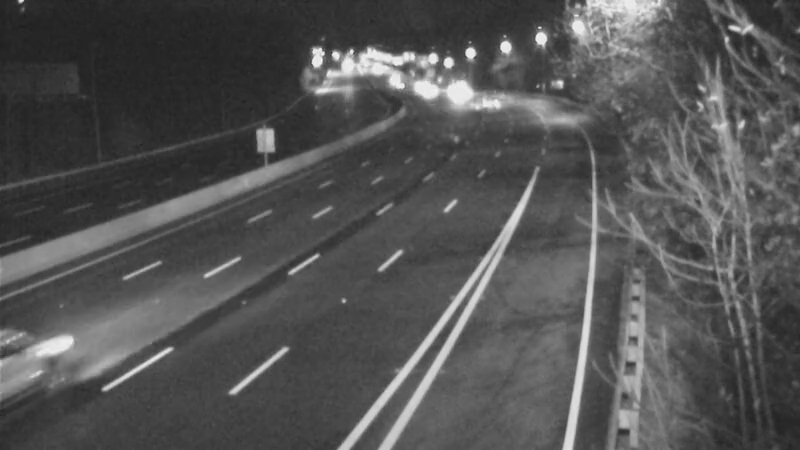vehicle: (1, 310, 95, 420), (395, 60, 445, 110), (438, 62, 488, 112), (404, 68, 454, 118), (453, 80, 503, 130)
